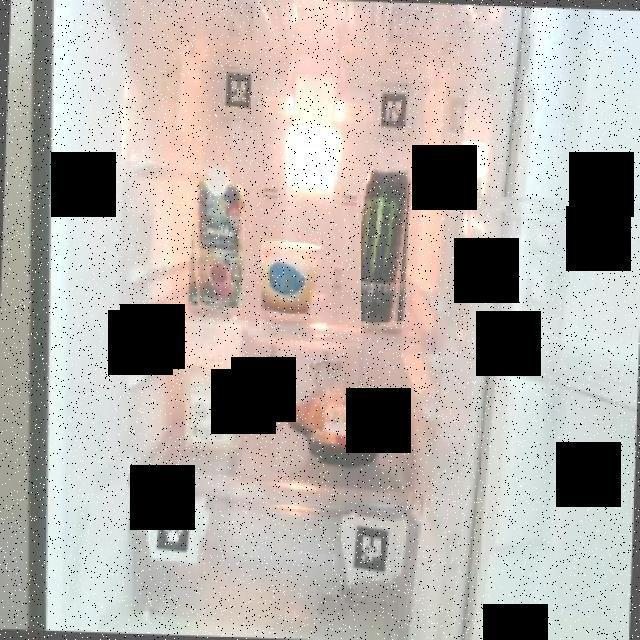bento: (286, 383, 408, 469)
can: (361, 165, 410, 327)
pudding: (258, 234, 320, 314)
sandwich: (174, 320, 248, 454)
smoothie: (186, 160, 245, 309)
